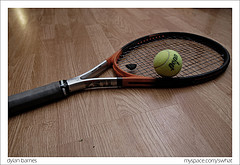tennis ball: (152, 48, 183, 77)
